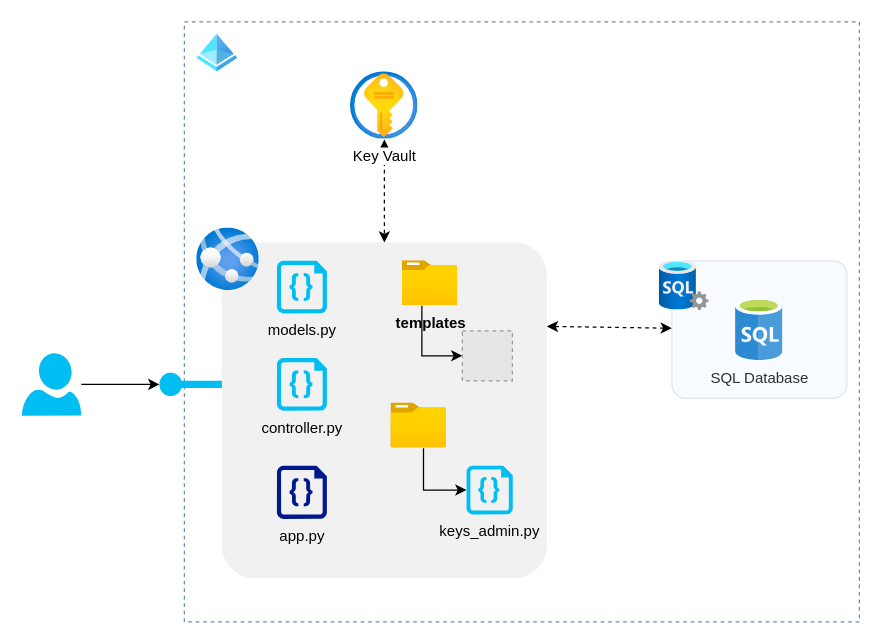
This 881x644 diagram has some shape labels left out. Grey dashed boxes stand in for pictures. Each missing label, with the box of its shape:
App Service: (196, 228, 259, 290)
keyvault: (390, 402, 446, 448)
SQL server: (659, 260, 709, 310)
